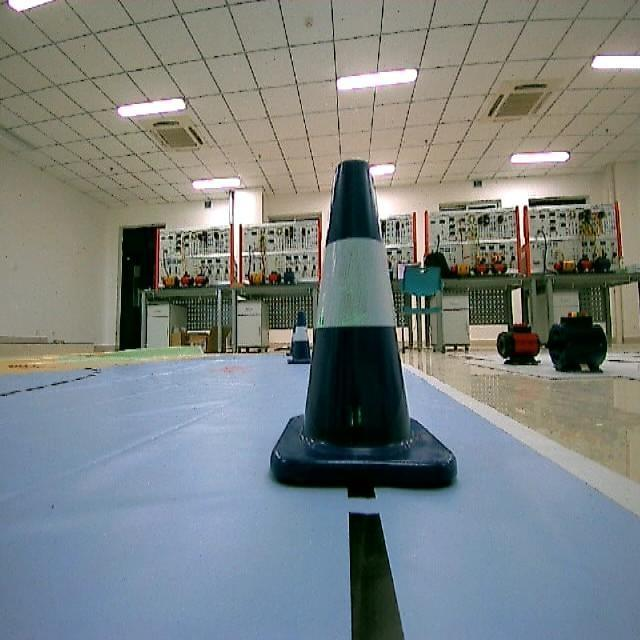obstacle: (264, 145, 474, 508), (284, 309, 316, 367)
